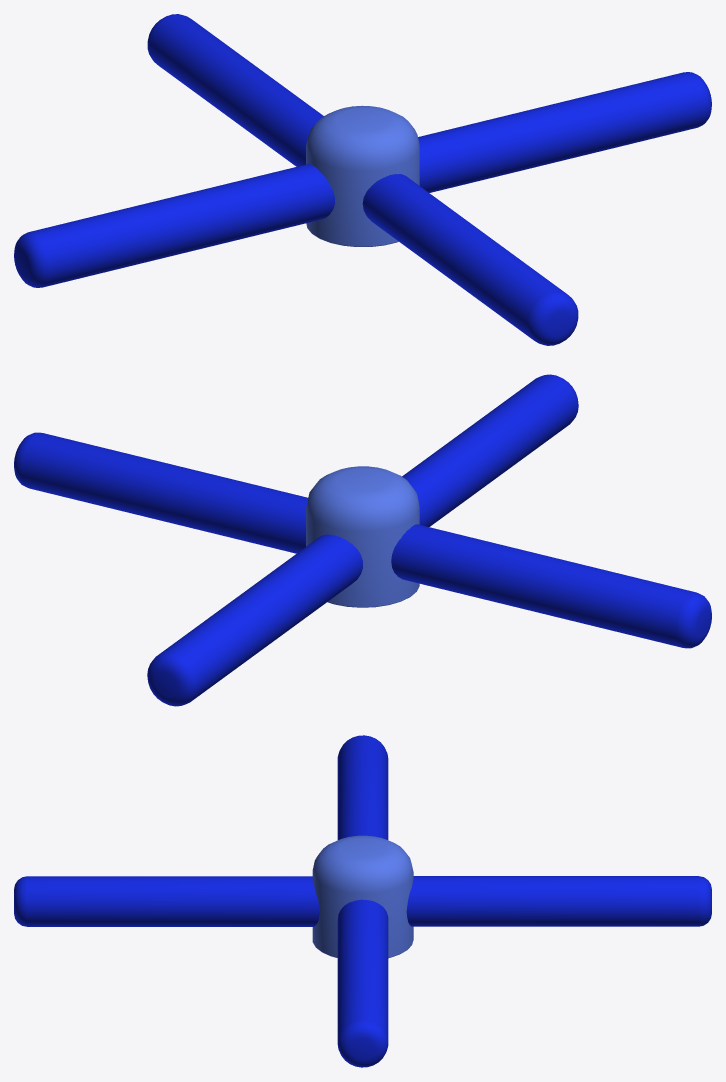
Rendered from barrier.fbx.
3 views of the same model, one above another, from view 1: azimuth 30°, elevation 25°; view 2: azimuth 150°, elevation 25°; view 3: azimuth 270°, elevation 25° (orthographic). The views are drawn at different scales.
Parts seen in each view (by area): view 1: Cylinder.006, Cylinder.008, Cylinder.007, Cylinder.005, Cylinder.009; view 2: Cylinder.006, Cylinder.008, Cylinder.005, Cylinder.007, Cylinder.009; view 3: Cylinder.007, Cylinder.005, Cylinder.009, Cylinder.008, Cylinder.006.
Part boxes in pixels (bbox=[...]): Cylinder.006: bbox=[14, 164, 334, 287]; Cylinder.008: bbox=[418, 72, 711, 192]; Cylinder.007: bbox=[362, 174, 578, 345]; Cylinder.005: bbox=[147, 14, 323, 166]; Cylinder.009: bbox=[306, 105, 419, 246]; Cylinder.006: bbox=[391, 524, 711, 648]; Cylinder.008: bbox=[14, 432, 307, 553]; Cylinder.005: bbox=[147, 534, 362, 706]; Cylinder.007: bbox=[402, 374, 578, 526]; Cylinder.009: bbox=[306, 466, 419, 607]; Cylinder.007: bbox=[14, 876, 319, 926]; Cylinder.005: bbox=[406, 876, 711, 926]; Cylinder.009: bbox=[312, 835, 413, 958]; Cylinder.008: bbox=[337, 899, 388, 1067]; Cylinder.006: bbox=[337, 735, 388, 839].
Bounding box in the file's own units: 1380 × 200 × 1380.
